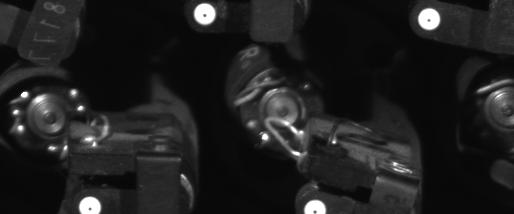fiber: (413, 4, 448, 33), (189, 1, 223, 27), (74, 193, 104, 214), (300, 196, 334, 214)
